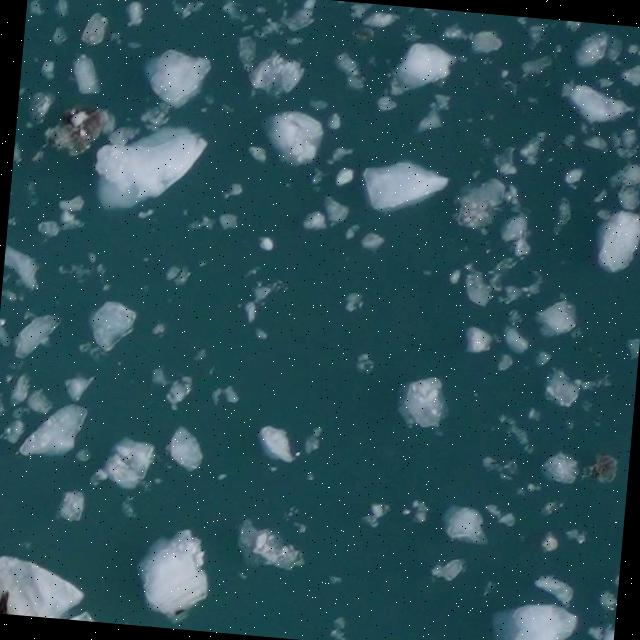seal: (0, 591, 12, 614)
